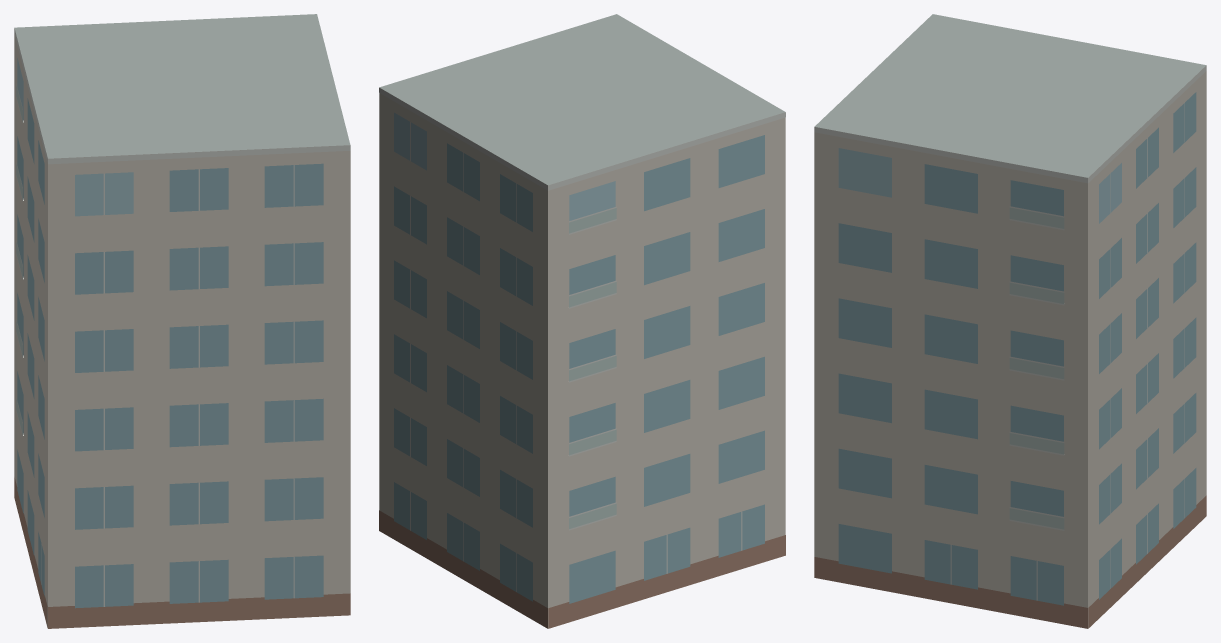
File: survey-upis-32530360.glb
3 views of the same model, side by side, from view 1: azimuth 30°, elevation 25°; view 2: azimuth 150°, elevation 25°; view 3: azimuth 270°, elevation 25° (orthographic). The views are drawn at different scales.
Parts seen in each view (by area): view 1: survey-upis-32530360.tmp; view 2: survey-upis-32530360.tmp; view 3: survey-upis-32530360.tmp.
Part boxes in pixels (left/top/right/bottom): survey-upis-32530360.tmp: left=14, top=14, right=350, bottom=628; survey-upis-32530360.tmp: left=379, top=14, right=785, bottom=628; survey-upis-32530360.tmp: left=814, top=14, right=1206, bottom=628.
Size of the model in its own units: 15.75 by 20.2 by 15.93.
